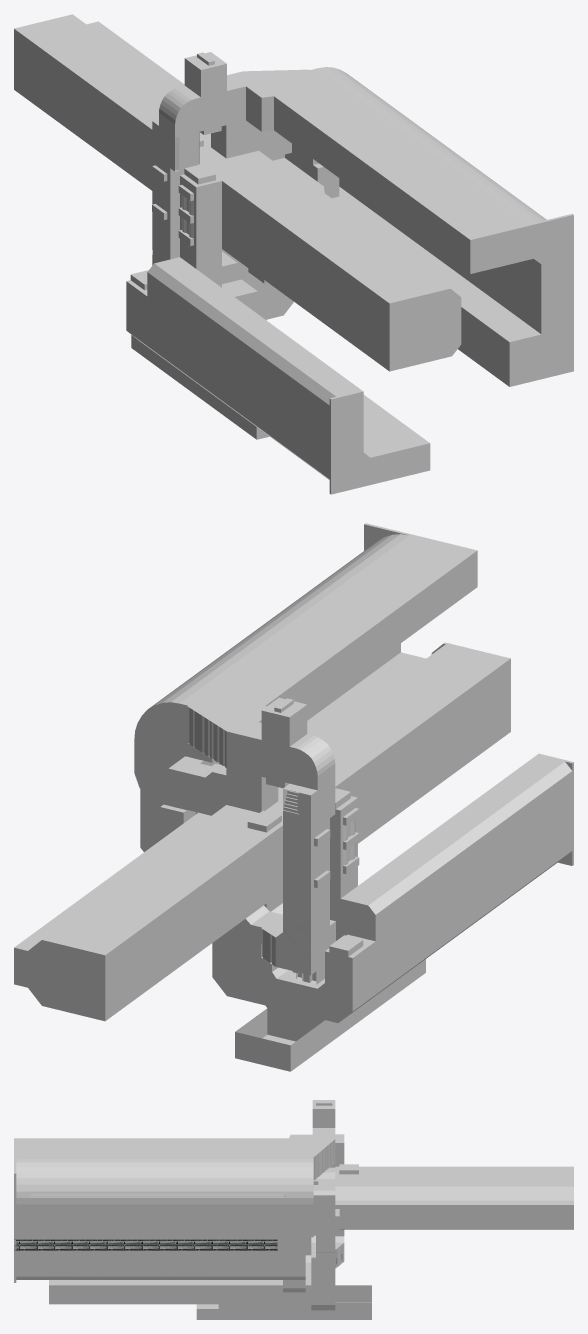
The model's file is hl2_aerowalk.obj.
3 views of the same model, one above another, from view 1: azimuth 30°, elevation 25°; view 2: azimuth 150°, elevation 25°; view 3: azimuth 270°, elevation 25° (orthographic). The views are drawn at different scales.
Visible parts, largest first — view 1: VBSP_Object.model_0, VBSP_Object.model_23, VBSP_Object.model_20, VBSP_Object.model_19; view 2: VBSP_Object.model_0, VBSP_Object.model_22, VBSP_Object.model_23; view 3: VBSP_Object.model_0.
Part boxes in pixels (x1,y1,x2,y2): VBSP_Object.model_0: (14,14,573,491); VBSP_Object.model_23: (469,213,573,386); VBSP_Object.model_20: (329,392,430,494); VBSP_Object.model_19: (388,287,461,370); VBSP_Object.model_0: (14,534,573,1071); VBSP_Object.model_22: (267,1008,345,1041); VBSP_Object.model_23: (364,523,477,659); VBSP_Object.model_0: (14,1100,573,1319).
Bounding box in the file's own units: 1286 × 1726 × 4096.
Materials: 6 (5 with a texture image).
